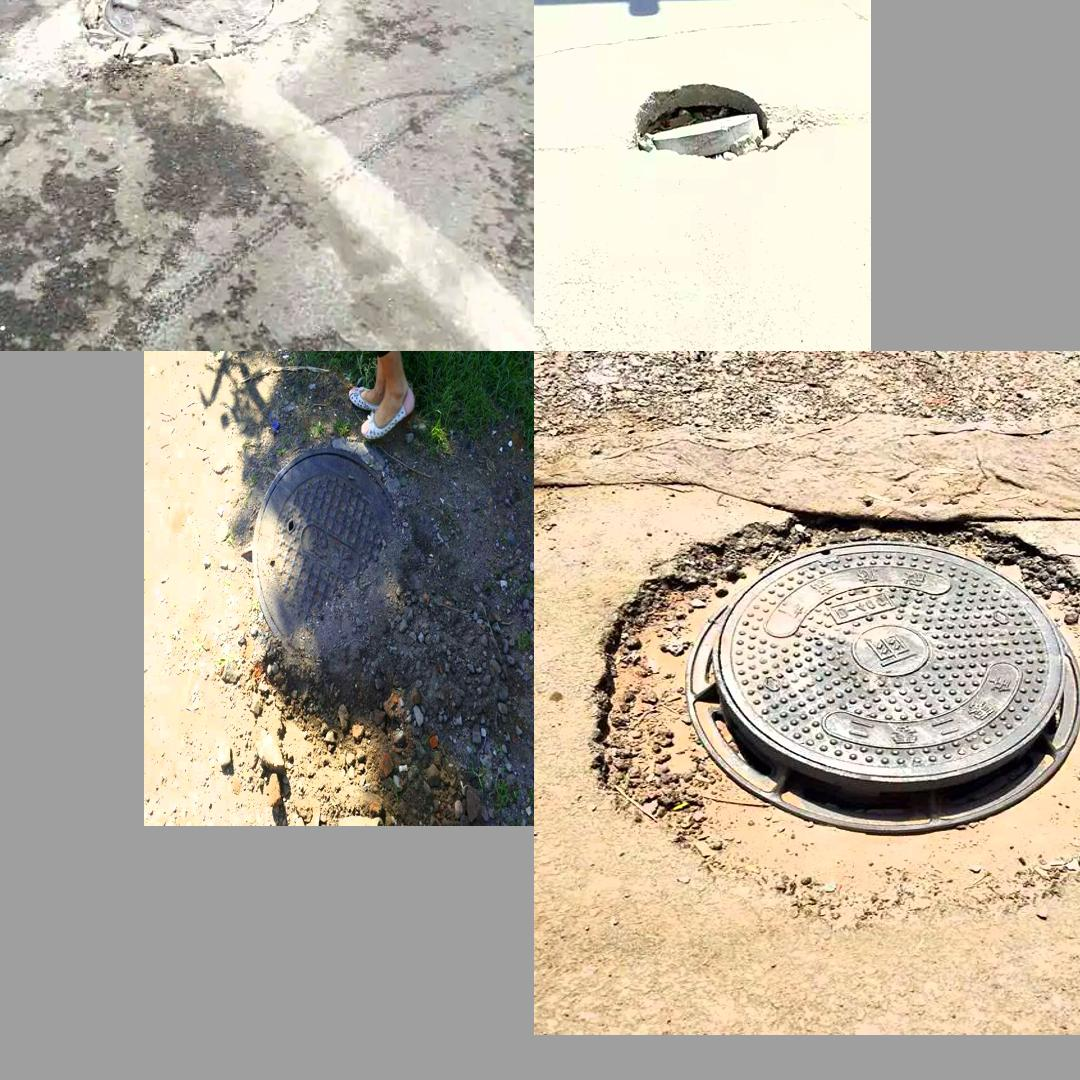circle: (598, 517, 1080, 918), (214, 441, 438, 701), (18, 0, 313, 122), (618, 72, 817, 183)
